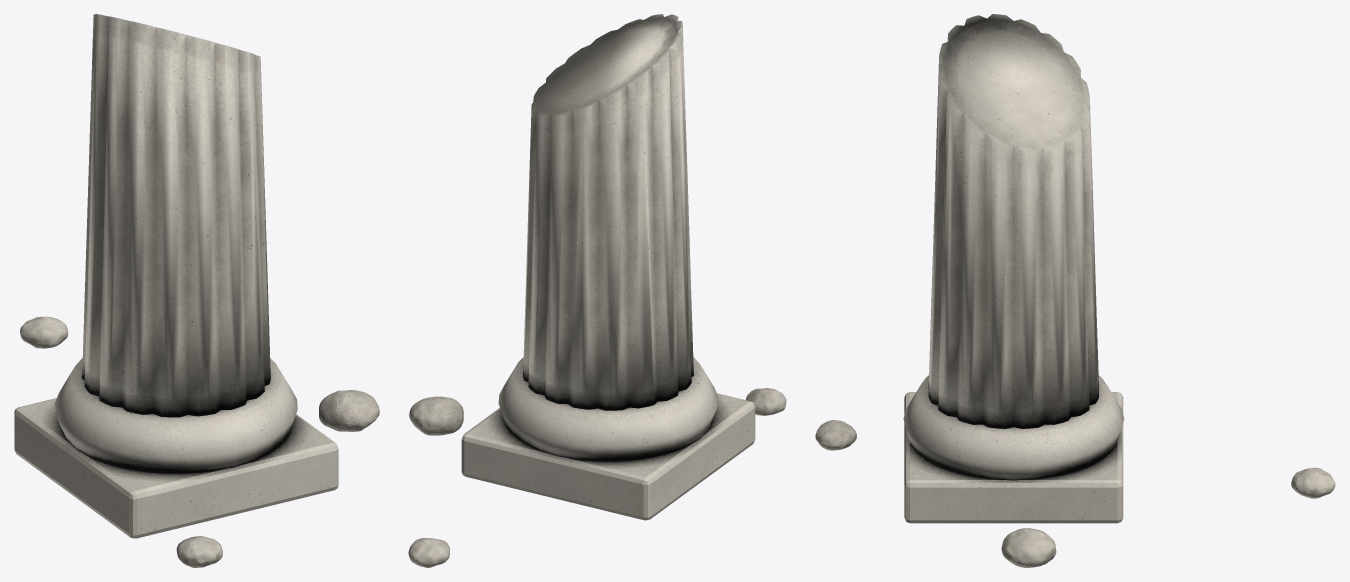
File: acropole_coluna_a.glb
3 views of the same model, side by side, from view 1: azimuth 30°, elevation 25°; view 2: azimuth 150°, elevation 25°; view 3: azimuth 270°, elevation 25° (orthographic). The views are drawn at different scales.
Visible parts, largest first — view 1: acropole_coluna_a_tronco; view 2: acropole_coluna_a_tronco; view 3: acropole_coluna_a_tronco.
Boxes of the visible parts, left/top/right/bottom form: acropole_coluna_a_tronco: left=14, top=14, right=379, bottom=567; acropole_coluna_a_tronco: left=408, top=14, right=786, bottom=567; acropole_coluna_a_tronco: left=815, top=14, right=1335, bottom=567.
Bounding box in the file's own units: 1.72 × 2.56 × 2.73.
Materials: 1 (1 with a texture image).
